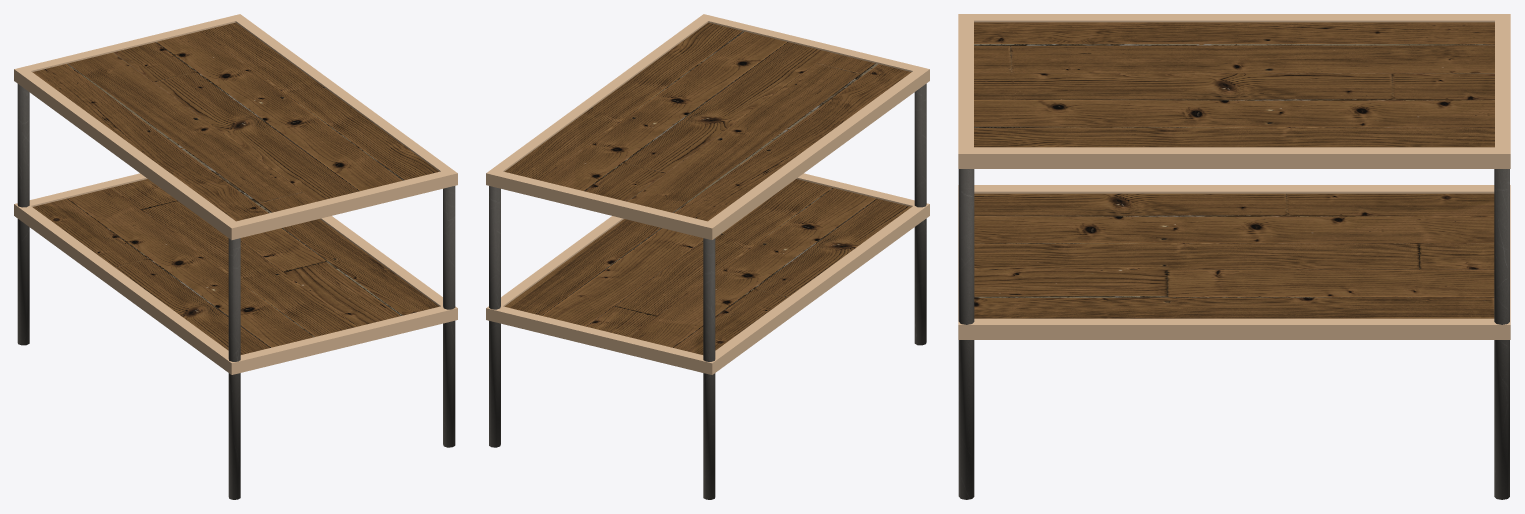
Rendered from etagere labo.fbx.
3 views of the same model, side by side, from view 1: azimuth 30°, elevation 25°; view 2: azimuth 150°, elevation 25°; view 3: azimuth 270°, elevation 25° (orthographic). The views are drawn at different scales.
Visible parts, largest first — view 1: Cube; view 2: Cube; view 3: Cube.
Boxes of the visible parts, x1,y1,x2,y2 form: Cube: (14, 14, 457, 499); Cube: (486, 14, 929, 499); Cube: (958, 14, 1510, 499).
Size of the model in its own units: 92.08 by 106 by 153.
